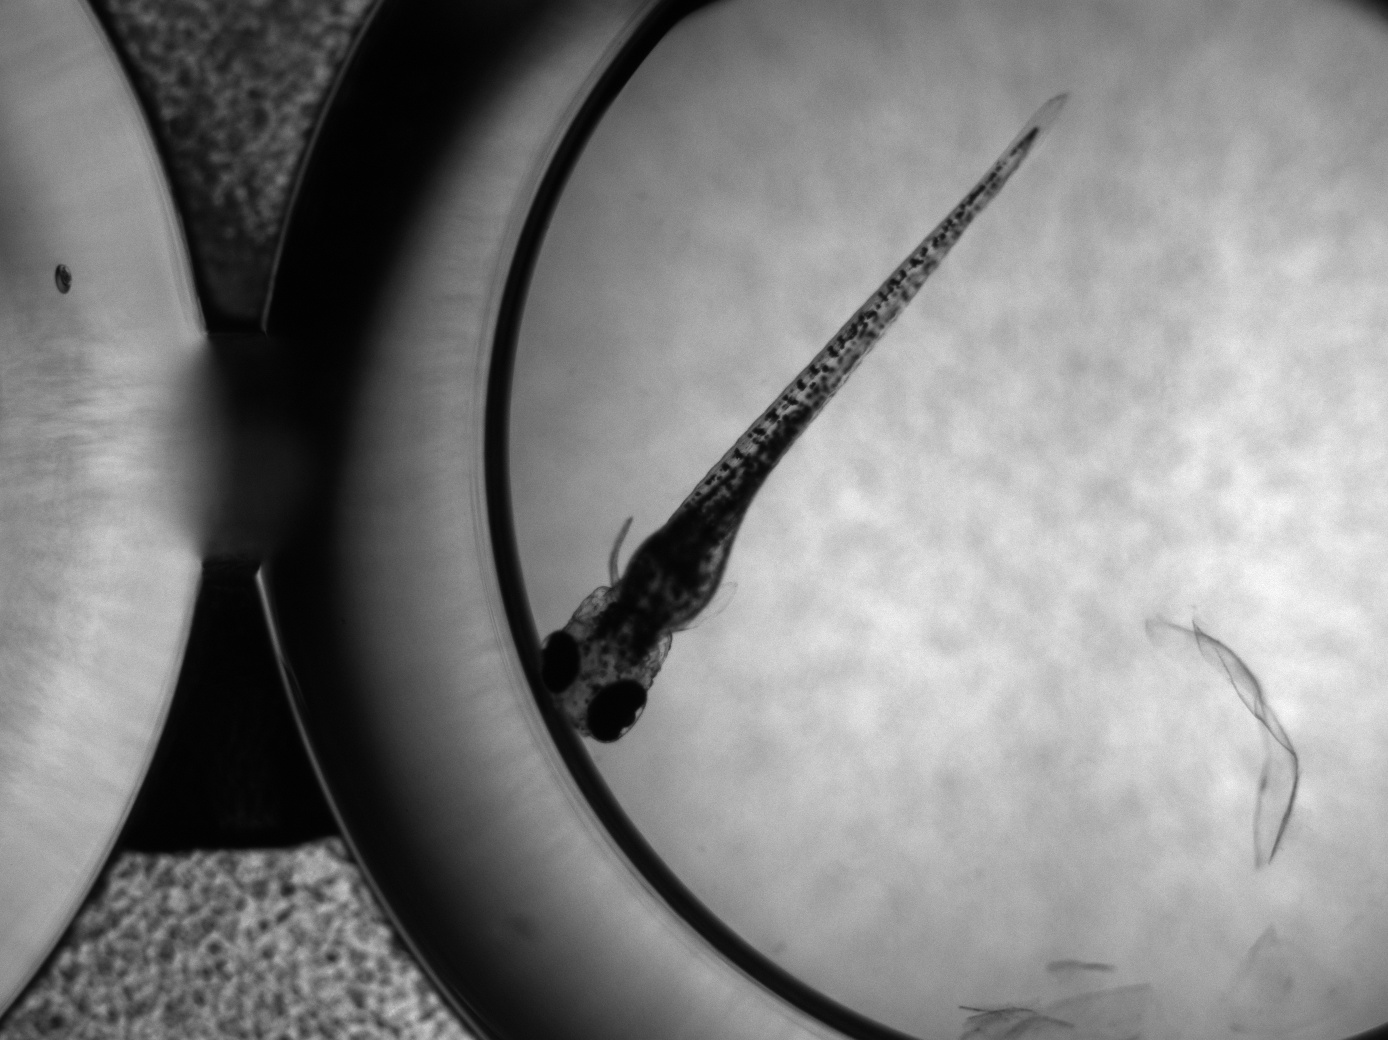debris: (1144, 614, 1298, 873), (957, 956, 1172, 1040)
embryo: (536, 93, 1064, 743)
eye: (585, 679, 648, 742), (537, 629, 580, 693)
yolksac: (625, 525, 729, 630)
